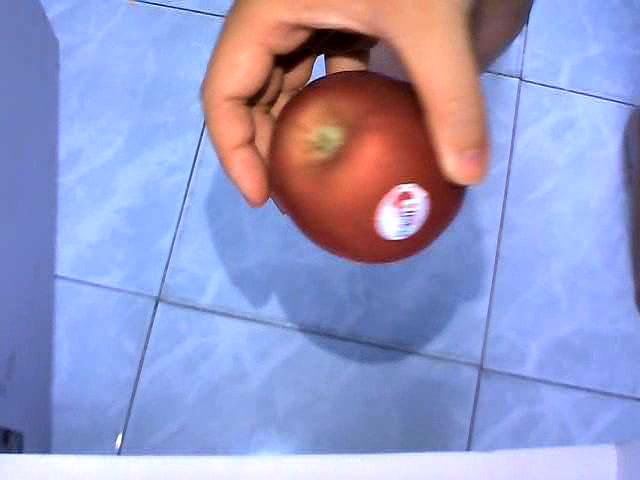apple: (263, 68, 469, 265)
